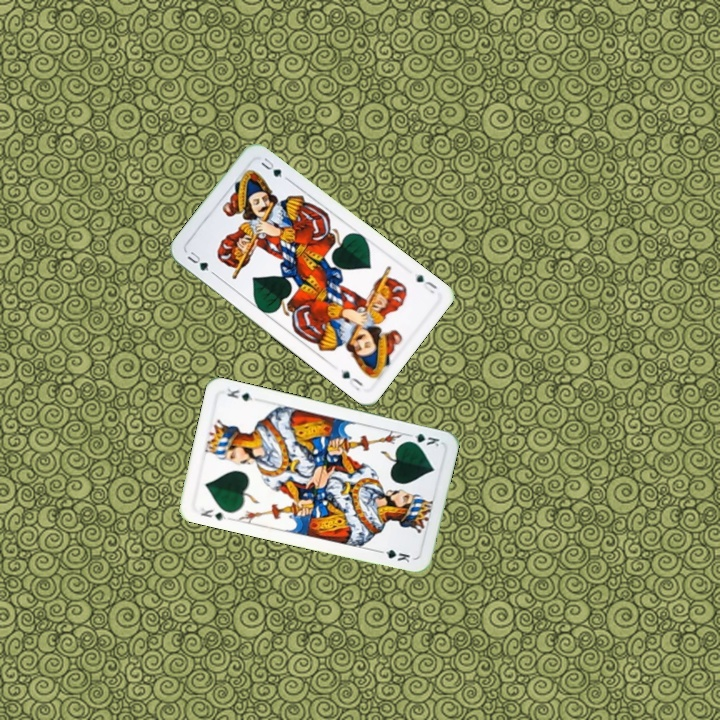GK: (402, 429, 442, 449), (197, 503, 228, 523)
GU: (183, 247, 217, 277), (412, 270, 440, 296)
